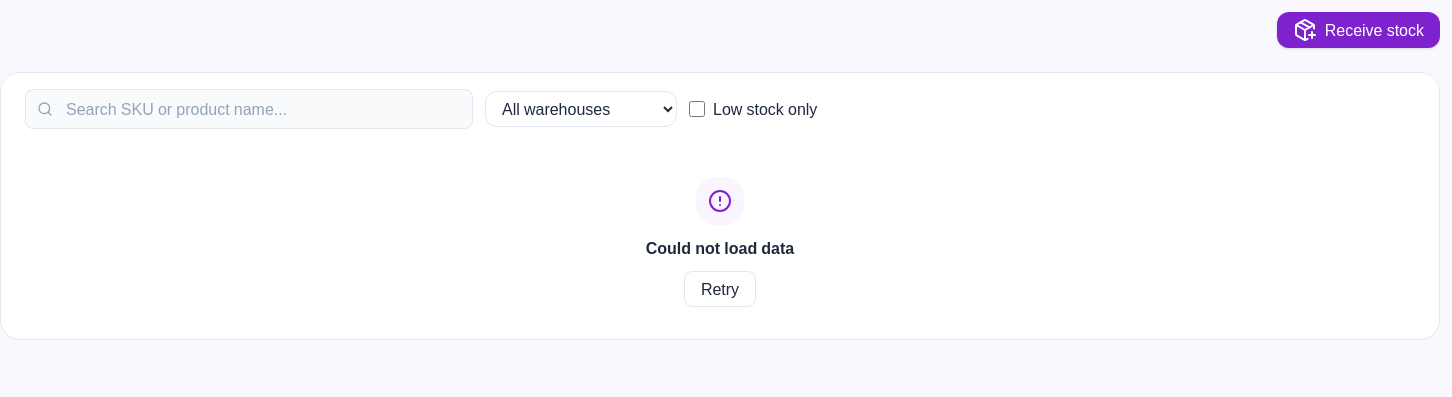
it: StockLevels › ໂຫຼດບໍ່ສຳເລັດ: ສະແດງ error ແລະ Retry ດຶງໃໝ່
Expected: the text "Could not load data" is shown, [646, 237, 794, 259]
Click the button "Retry" at (720, 289), box [684, 271, 756, 307]
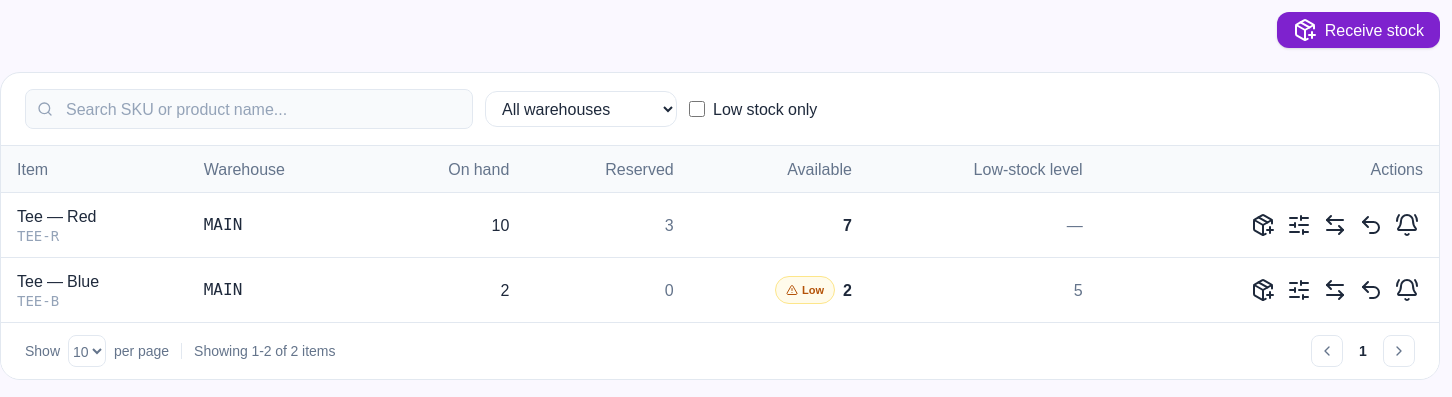
Now the row with test id "row-stock-s1" is shown, box [1, 192, 1439, 258]
